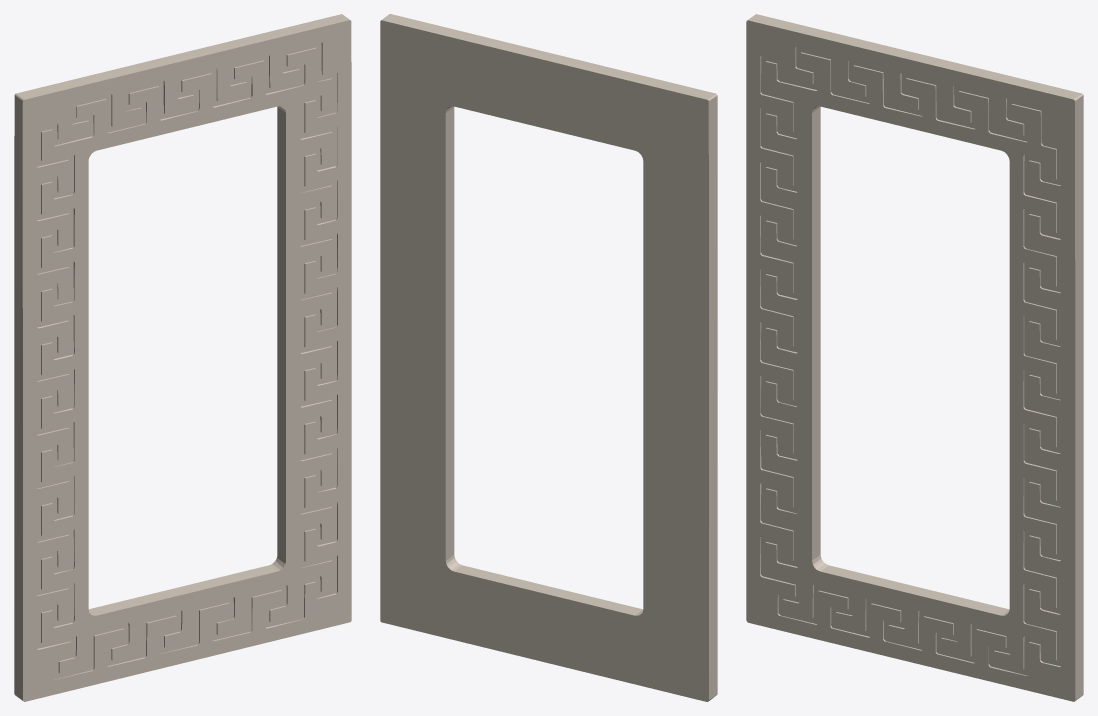
File: nrd-cam-106.glb
The picture shows the model from 3 angles, left to right: view 1: azimuth 30°, elevation 25°; view 2: azimuth 150°, elevation 25°; view 3: azimuth 330°, elevation 25°; orthographic projection.
Visible parts, largest first — view 1: NRD CAM 106; view 2: NRD CAM 106; view 3: NRD CAM 106.
Boxes of the visible parts, x1,y1,x2,y2 form: NRD CAM 106: (14, 14, 351, 701); NRD CAM 106: (380, 14, 717, 701); NRD CAM 106: (746, 14, 1083, 701).
Bounding box in the file's own units: 0.3999 × 0.6999 × 0.018.
